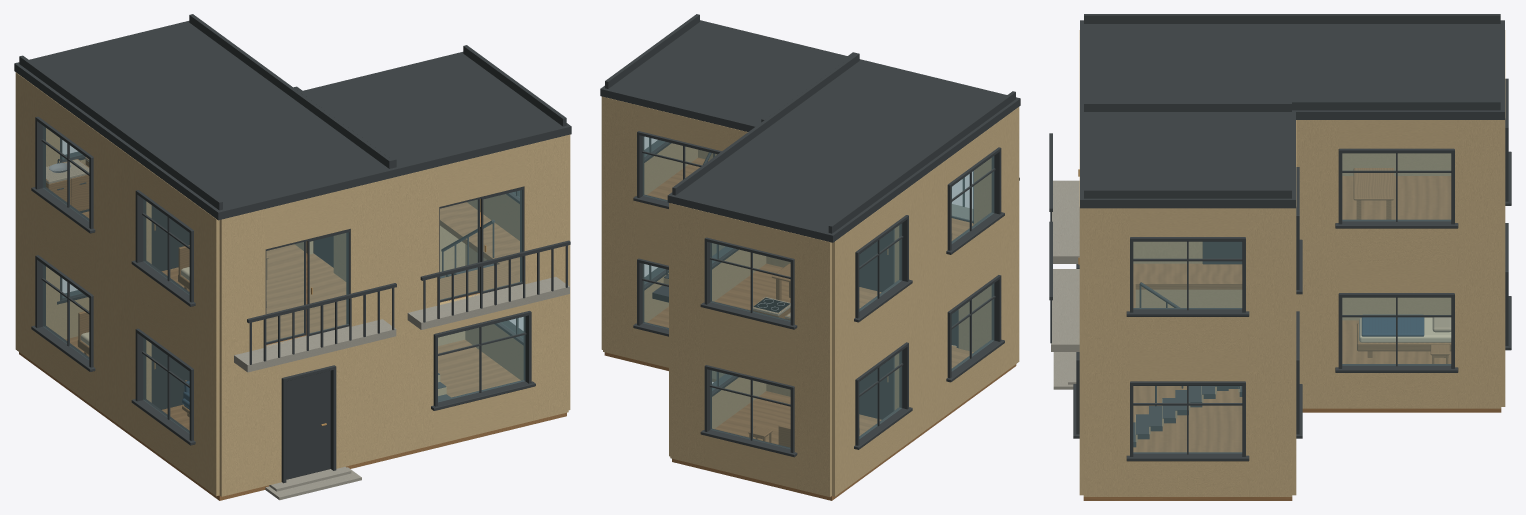
File: bld-dorm-11e458c32e84.glb
3 views of the same model, side by side, from view 1: azimuth 30°, elevation 25°; view 2: azimuth 150°, elevation 25°; view 3: azimuth 270°, elevation 25° (orthographic). The views are drawn at different scales.
Visible parts, largest first — view 1: surface_plaster, surface_graphite, surface_Optical_smoke, surface_oak, surface_stone; view 2: surface_plaster, surface_graphite, surface_Optical_smoke, surface_oak; view 3: surface_plaster, surface_graphite, surface_Optical_smoke, surface_oak, surface_stone, surface_denim, surface_ivory.
Part boxes in pixels (x1,y1,x2,y2): surface_plaster: (15, 72, 570, 496); surface_graphite: (14, 14, 571, 483); surface_Optical_smoke: (43, 126, 525, 433); surface_oak: (19, 157, 566, 500); surface_stone: (234, 277, 569, 500); surface_plaster: (601, 96, 1019, 496); surface_graphite: (600, 14, 1020, 457); surface_Optical_smoke: (643, 136, 994, 448); surface_oak: (604, 157, 1016, 500); surface_plaster: (1079, 30, 1505, 496); surface_graphite: (1049, 14, 1511, 461); surface_Optical_smoke: (1133, 153, 1450, 453); surface_oak: (1083, 168, 1501, 500); surface_stone: (1051, 180, 1079, 389); surface_denim: (1361, 314, 1424, 336); surface_ivory: (1359, 317, 1451, 342).
Size of the model in its own units: 8.39 by 6.56 by 8.85.
13 materials, 6 textured.
